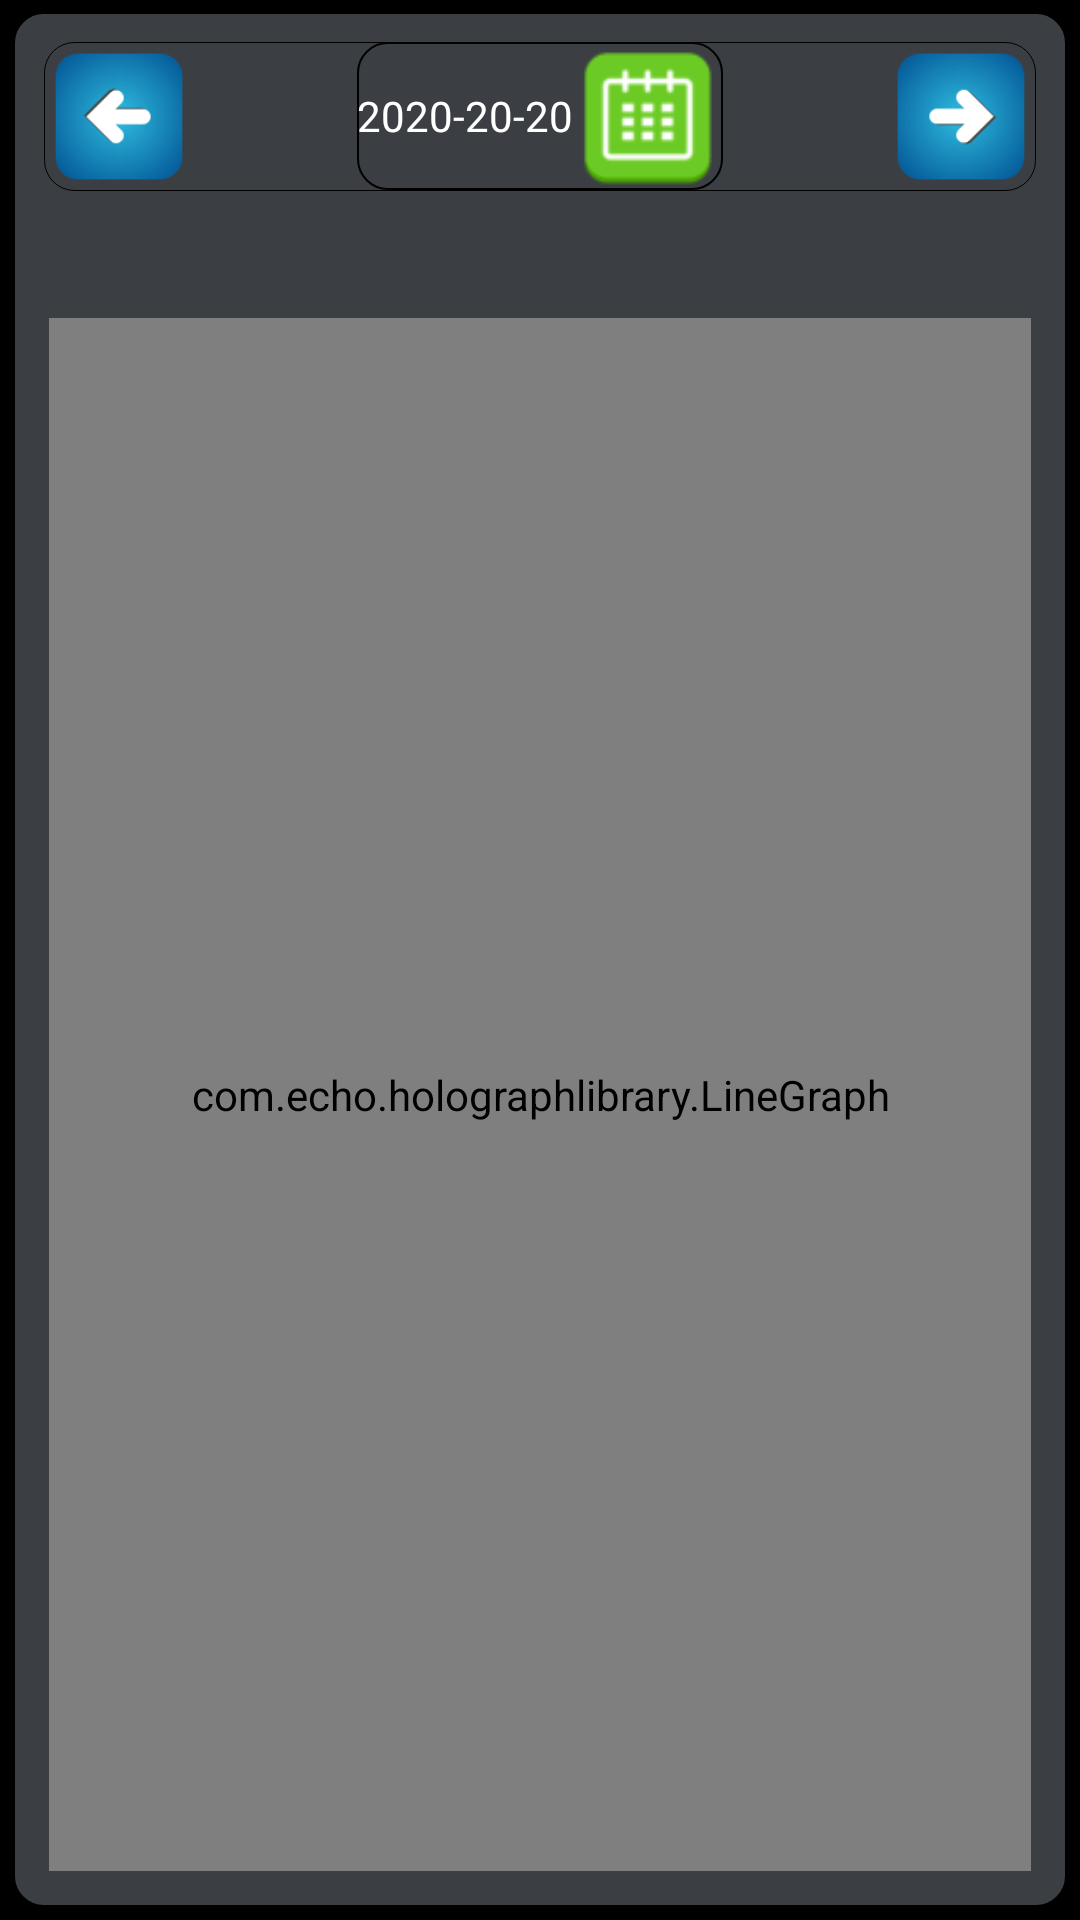

Icon bounding boxes for this 1080px x 1920px phone screenshot, format [left=x1, top=y1, right=x2, bottom=y2]:
calendar: [left=584, top=52, right=712, bottom=184]
left: [left=55, top=53, right=183, bottom=180]
right: [left=897, top=53, right=1025, bottom=180]
